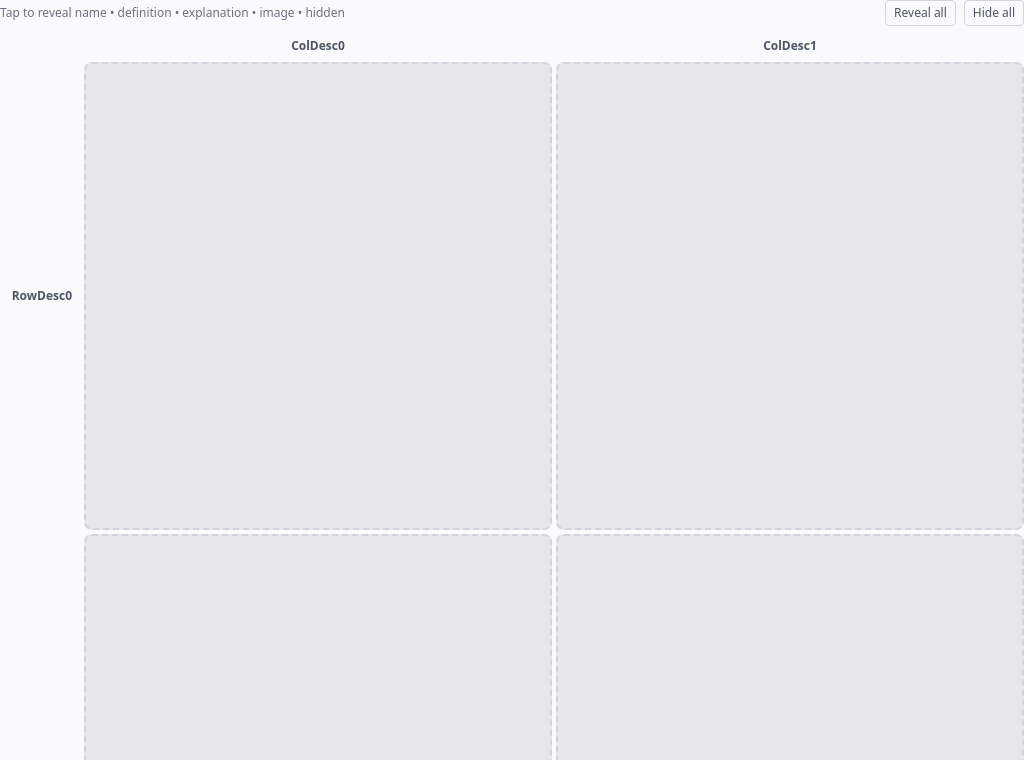
Test: MatrixRevealView — Reveal All / Hide All › "Reveal all" shows all cell labels and concepts (name stage)
The width and height of the screenshot is (1024, 760).
Click the button "Reveal all".
click(920, 13)  # box [885,0,956,26]
(page scrolled)
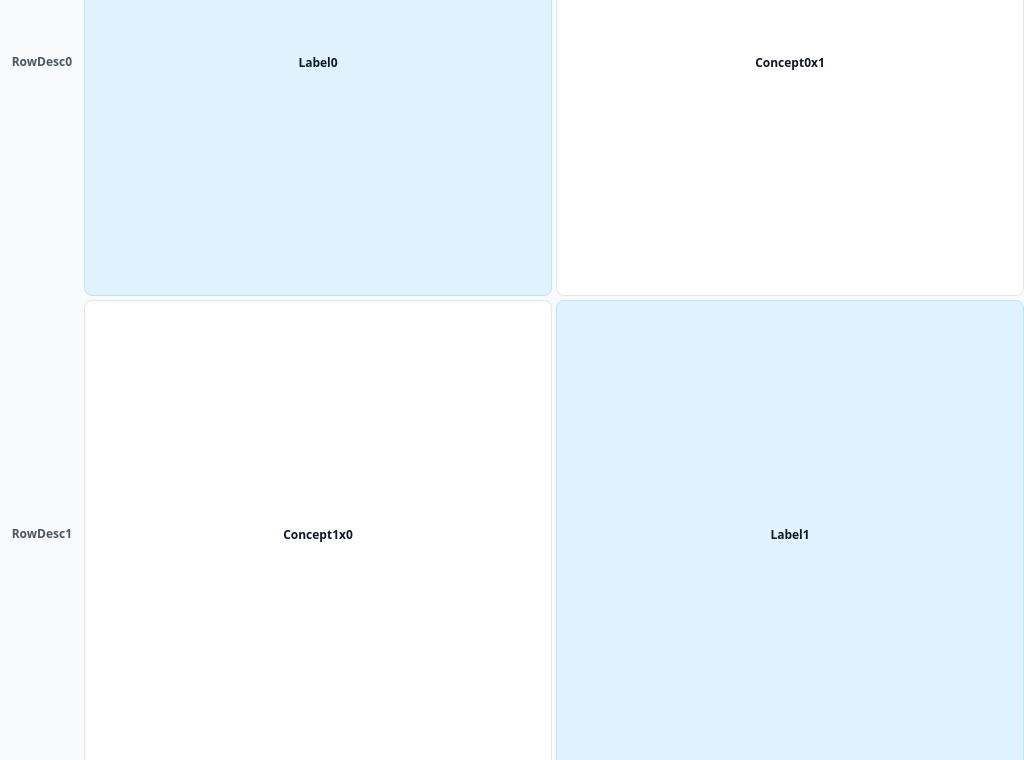
Now the text "Label0" is shown, box [298,54,338,70]
Now the text "Label1" is shown, box [770,526,810,542]
Now the text "Concept0x1" is shown, box [755,54,825,70]
